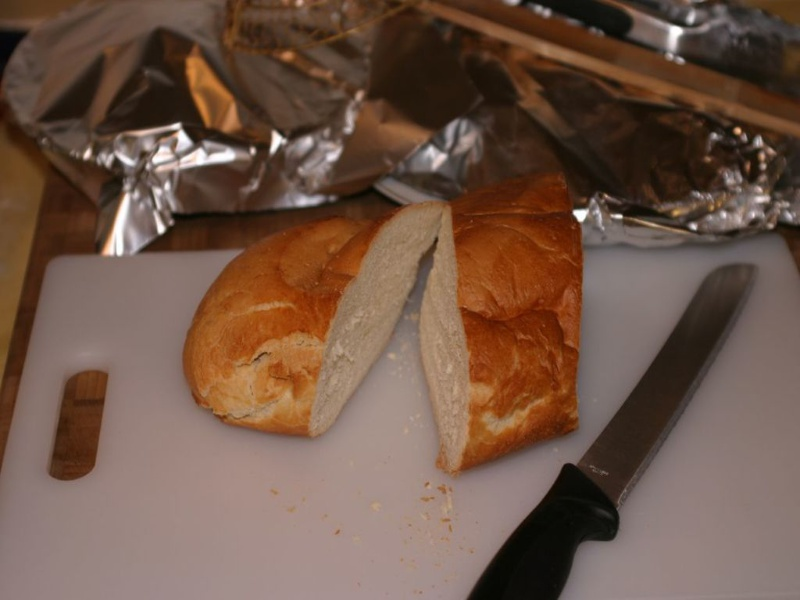knife: (471, 258, 760, 600)
